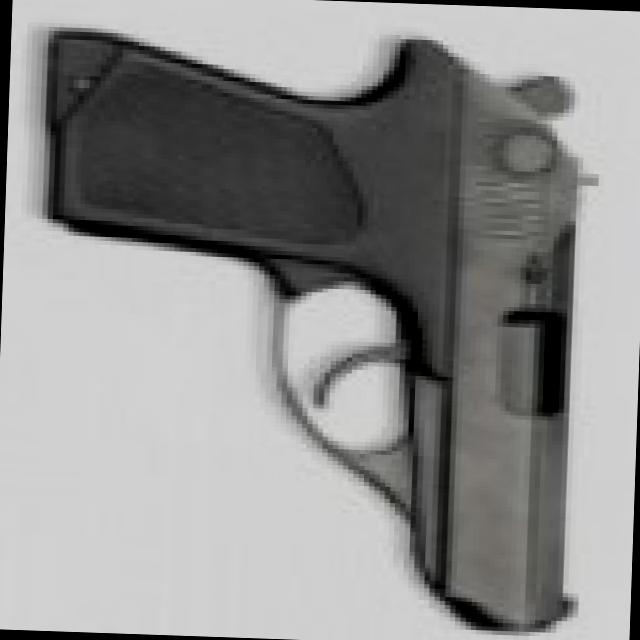handgun: (32, 14, 608, 634)
